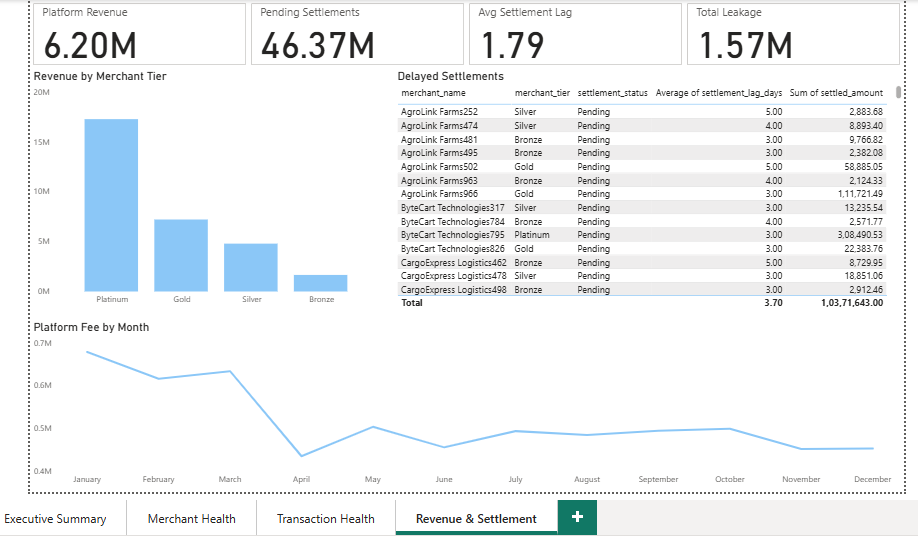

Layout of this report page (visuals, bound fields, positions):
{"tool":"powerbi","page":{"name":"Revenue & Settlement","canvas":[1280,720],"ordinal":3},"visuals":[{"type":"columnChart","title":"Revenue by Merchant Tier","fields":{"Y":["Sum(zorvyn fact_transactions.amount)"],"Category":["zorvyn dim_merchants.merchant_tier"]},"box":[0,101,513.7,355.6],"z":0},{"type":"cardVisual","fields":{"Data":["zorvyn dim_date.Platform Revenue","zorvyn dim_date.Pending Settlements","zorvyn dim_date.Avg Settlement Lag","zorvyn dim_date.Total Leakage"]},"box":[0,0,1280.5,101],"z":1000},{"type":"tableEx","title":"Delayed Settlements","fields":{"Values":["zorvyn dim_merchants.merchant_name","zorvyn dim_merchants.merchant_tier","zorvyn fact_settlements.settlement_status","Avg(zorvyn fact_settlements.settlement_lag_days)","Sum(zorvyn fact_settlements.settled_amount)"]},"box":[532.7,101,747.8,355.6],"z":2000},{"type":"lineChart","title":"Platform Fee by Month","fields":{"Y":["Sum(zorvyn fact_settlements.platform_fee)"],"Category":["zorvyn fact_settlements.settlement_date.Variation.Date Hierarchy.Month"]},"box":[0,468.3,1280,251.7],"z":3000}]}

Visuals, with their boxes on the page's 1280x720 design canvas (x1, y1, x2, y2). These are canvas units, not pixel positions in the 918x536 screenshot, which may show the page scaled, cropped or inside an application window:
"Revenue by Merchant Tier" columnChart: <region>0, 101, 514, 457</region>
cardVisual - zorvyn dim_date.Platform Revenue x zorvyn dim_date.Pending Settlements: <region>0, 0, 1280, 101</region>
"Delayed Settlements" tableEx: <region>533, 101, 1280, 457</region>
"Platform Fee by Month" lineChart: <region>0, 468, 1280, 720</region>
